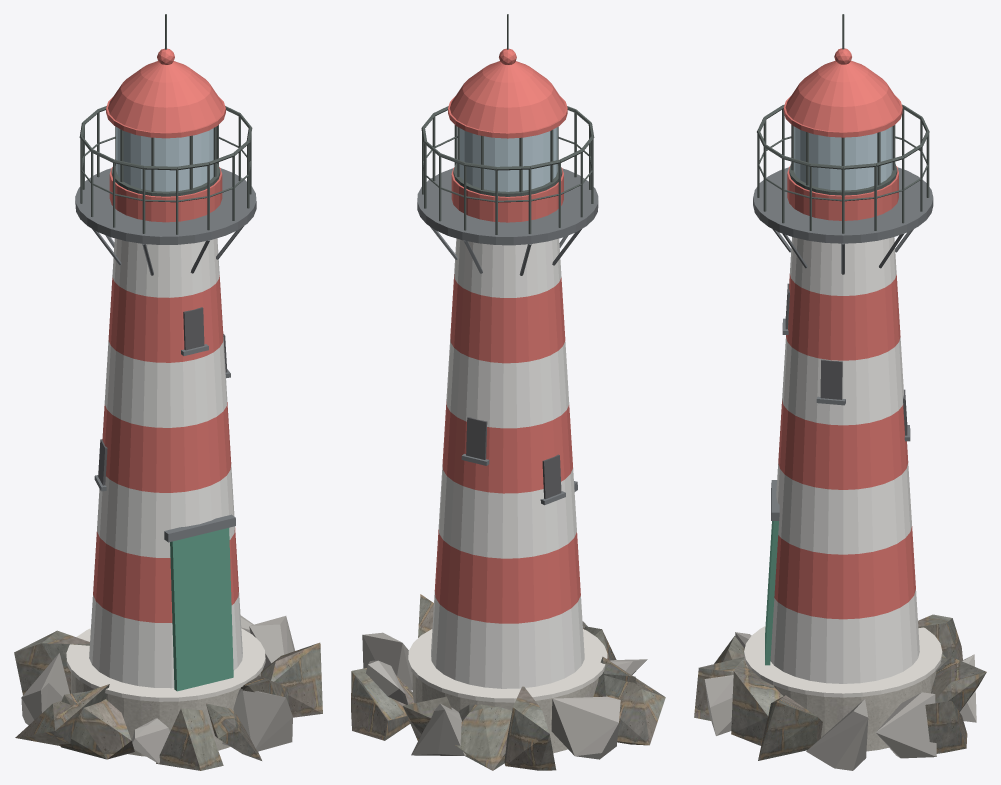
File: lighthouse.glb
3 renders of one model, left to right at view 1: azimuth 30°, elevation 25°; view 2: azimuth 150°, elevation 25°; view 3: azimuth 270°, elevation 25°, orthographic.
Visible parts, largest first — view 1: lighthouse_lh_r, lighthouse_lh_w, lighthouse_rock, lighthouse_door, lighthouse_steel_d, lighthouse_rock2, lighthouse_iron, lighthouse_glass, lighthouse_coping, lighthouse_concrete, lighthouse_dark; view 2: lighthouse_lh_r, lighthouse_lh_w, lighthouse_rock, lighthouse_rock2, lighthouse_steel_d, lighthouse_iron, lighthouse_glass, lighthouse_coping, lighthouse_concrete, lighthouse_dark; view 3: lighthouse_lh_r, lighthouse_lh_w, lighthouse_rock, lighthouse_steel_d, lighthouse_rock2, lighthouse_iron, lighthouse_glass, lighthouse_coping, lighthouse_concrete, lighthouse_dark, lighthouse_door.
Boxes of the visible parts, x1,y1,x2,y2 form: lighthouse_lh_r: (93,48,238,622); lighthouse_lh_w: (89,238,242,688); lighthouse_rock: (14,630,322,770); lighthouse_door: (170,528,233,691); lighthouse_steel_d: (75,168,256,542); lighthouse_rock2: (21,615,295,763); lighthouse_iron: (79,14,252,234); lighthouse_glass: (116,127,213,191); lighthouse_coping: (66,628,265,701); lighthouse_concrete: (71,672,260,756); lighthouse_dark: (98,307,227,485); lighthouse_lh_r: (434,48,580,623); lighthouse_lh_w: (431,238,584,688); lighthouse_rock: (351,594,665,770); lighthouse_rock2: (362,632,647,759); lighthouse_steel_d: (417,168,598,505); lighthouse_iron: (421,14,594,234); lighthouse_glass: (460,127,557,191); lighthouse_coping: (408,629,607,702); lighthouse_concrete: (412,673,598,753); lighthouse_dark: (466,417,561,498); lighthouse_lh_r: (774,48,915,619); lighthouse_lh_w: (770,237,919,683); lighthouse_rock: (694,614,986,760); lighthouse_steel_d: (753,167,933,520); lighthouse_rock2: (704,632,976,770); lighthouse_iron: (757,14,929,233); lighthouse_glass: (794,126,892,190); lighthouse_coping: (744,626,942,697); lighthouse_concrete: (748,668,937,751); lighthouse_dark: (785,283,907,435); lighthouse_door: (765,521,778,665).
Bounding box in the file's own units: 3.64 × 8.55 × 3.25.
Materials: 12 (2 with a texture image).
